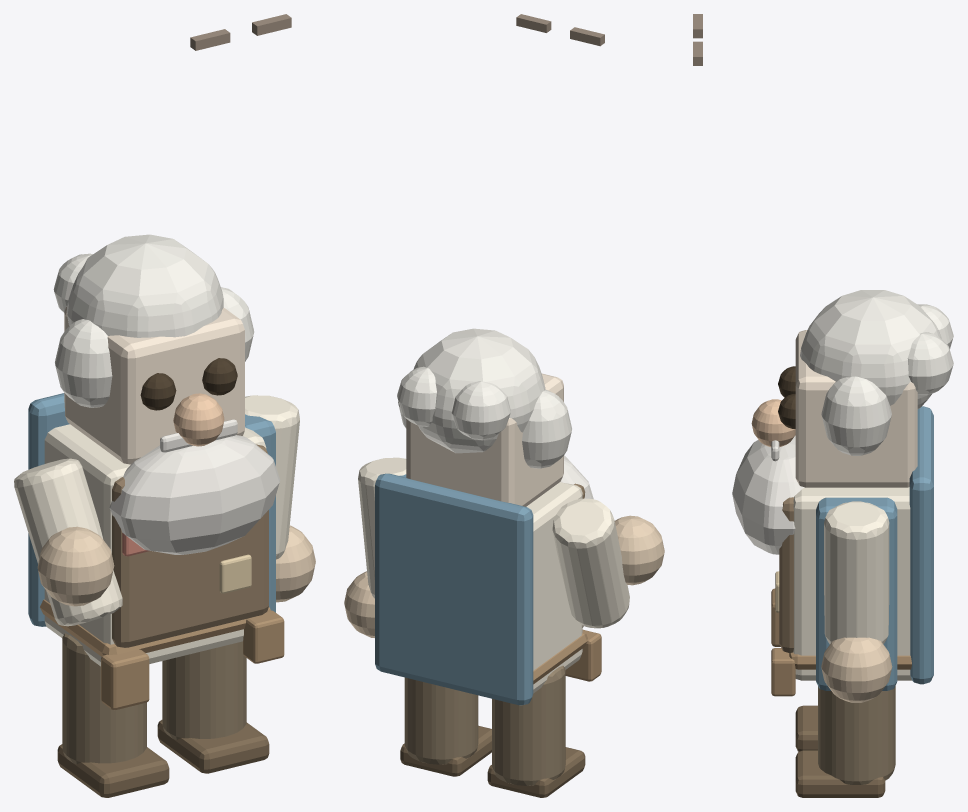
File: npc_withering.glb
3 renders of one model, left to right at view 1: azimuth 30°, elevation 25°; view 2: azimuth 150°, elevation 25°; view 3: azimuth 270°, elevation 25°, orthographic. The views are drawn at different scales.
Visible parts, largest first — view 1: Beard, Head, Vest, Hair_(0, 0.04, 1.24), Leg_R, Leg_L, Arm_L, Body, Hand_L, Hair_(-0.16, 0.0, 1.16), Arm_R, Boot_L (+16 smaller); view 2: CloakBack, Hair_(0, 0.04, 1.24), Head, Arm_L, Leg_L, Body, Leg_R, Hair_(-0.16, 0.0, 1.16), Hair_(-0.08, 0.16, 1.26), Hand_L, Arm_R, Hair_(0.08, 0.16, 1.26) (+5 smaller); view 3: Hair_(0, 0.04, 1.24), Head, Arm_R, Body, Leg_R, CloakBack, Beard, Hair_(0.16, 0.0, 1.16), CloakDrape, Hand_R, Boot_R, Hair_(0.08, 0.16, 1.26) (+7 smaller).
Part boxes in pixels (x1=…): Beard: x1=109, y1=435, x2=280, y2=554; Head: x1=64, y1=306, x2=244, y2=464; Vest: x1=112, y1=444, x2=268, y2=647; Hair_(0, 0.04, 1.24): x1=66, y1=234, x2=223, y2=337; Leg_R: x1=162, y1=641, x2=246, y2=739; Leg_L: x1=62, y1=633, x2=146, y2=764; Arm_L: x1=14, y1=458, x2=122, y2=626; Body: x1=44, y1=424, x2=266, y2=666; Hand_L: x1=37, y1=526, x2=114, y2=606; Hair_(-0.16, 0.0, 1.16): x1=55, y1=319, x2=112, y2=407; Arm_R: x1=245, y1=395, x2=299, y2=559; Boot_L: x1=57, y1=744, x2=169, y2=797; CloakBack: x1=375, y1=473, x2=533, y2=705; Hair_(0, 0.04, 1.24): x1=413, y1=328, x2=545, y2=453; Head: x1=406, y1=373, x2=563, y2=506; Arm_L: x1=552, y1=498, x2=629, y2=628; Leg_L: x1=492, y1=665, x2=565, y2=785; Body: x1=526, y1=482, x2=582, y2=693; Leg_R: x1=404, y1=677, x2=478, y2=764; Hair_(-0.16, 0.0, 1.16): x1=522, y1=389, x2=571, y2=468; Hair_(-0.08, 0.16, 1.26): x1=451, y1=381, x2=510, y2=440; Hand_L: x1=614, y1=515, x2=664, y2=585; Arm_R: x1=358, y1=457, x2=406, y2=598; Hair_(0.08, 0.16, 1.26): x1=397, y1=366, x2=436, y2=426; Hair_(0, 0.04, 1.24): x1=800, y1=290, x2=941, y2=409; Head: x1=795, y1=330, x2=917, y2=487; Arm_R: x1=824, y1=501, x2=889, y2=643; Body: x1=793, y1=487, x2=912, y2=680; Leg_R: x1=818, y1=686, x2=895, y2=784; CloakBack: x1=909, y1=406, x2=933, y2=684; Beard: x1=732, y1=435, x2=804, y2=554; Hair_(0.16, 0.0, 1.16): x1=821, y1=376, x2=891, y2=455; CloakDrape: x1=816, y1=497, x2=897, y2=690; Hand_R: x1=821, y1=637, x2=892, y2=702; Boot_R: x1=795, y1=750, x2=885, y2=797; Hair_(0.08, 0.16, 1.26): x1=907, y1=332, x2=953, y2=395.
Size of the model in its own units: 0.8112 by 1.97 by 0.6406.
